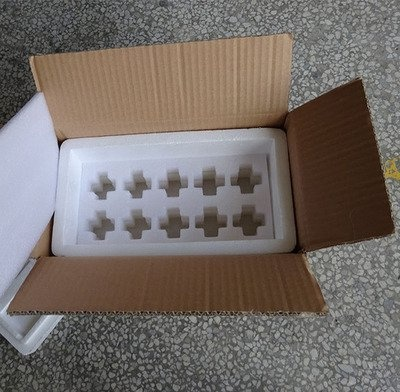5/可回收垃圾/泡沫: (52, 127, 299, 259), (1, 92, 59, 313), (1, 313, 61, 355)
